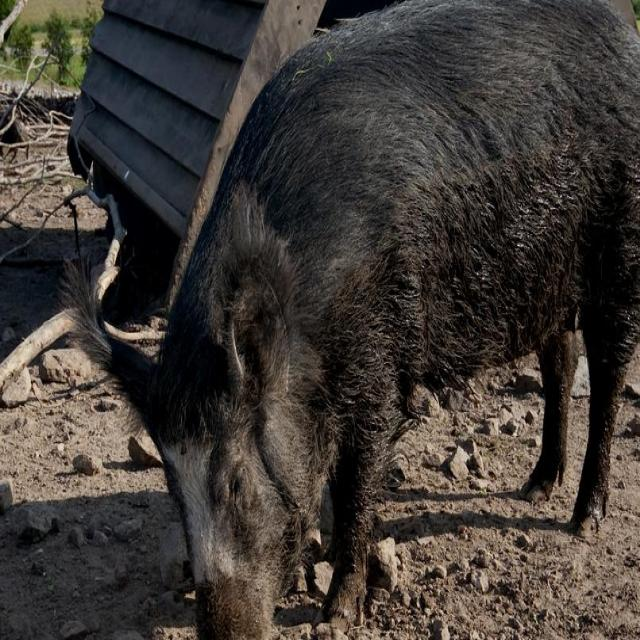pig: (68, 2, 640, 638)
